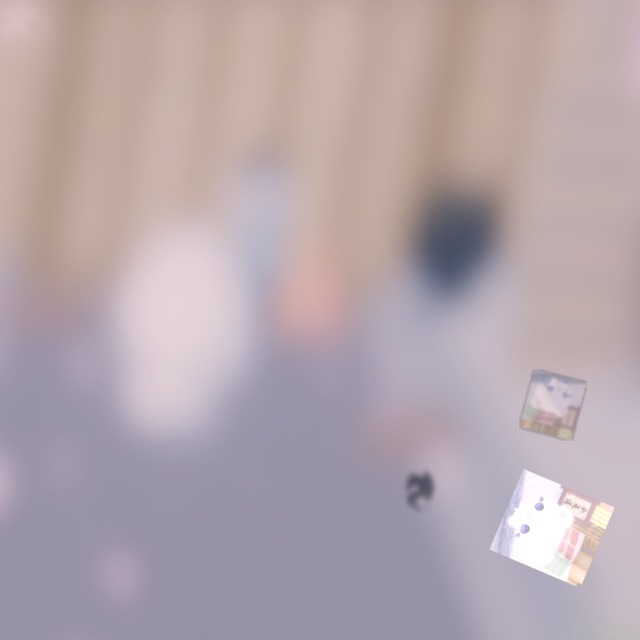urso_branco: (489, 469, 615, 588), (519, 369, 587, 441)
urso_preto: (396, 462, 444, 520)
